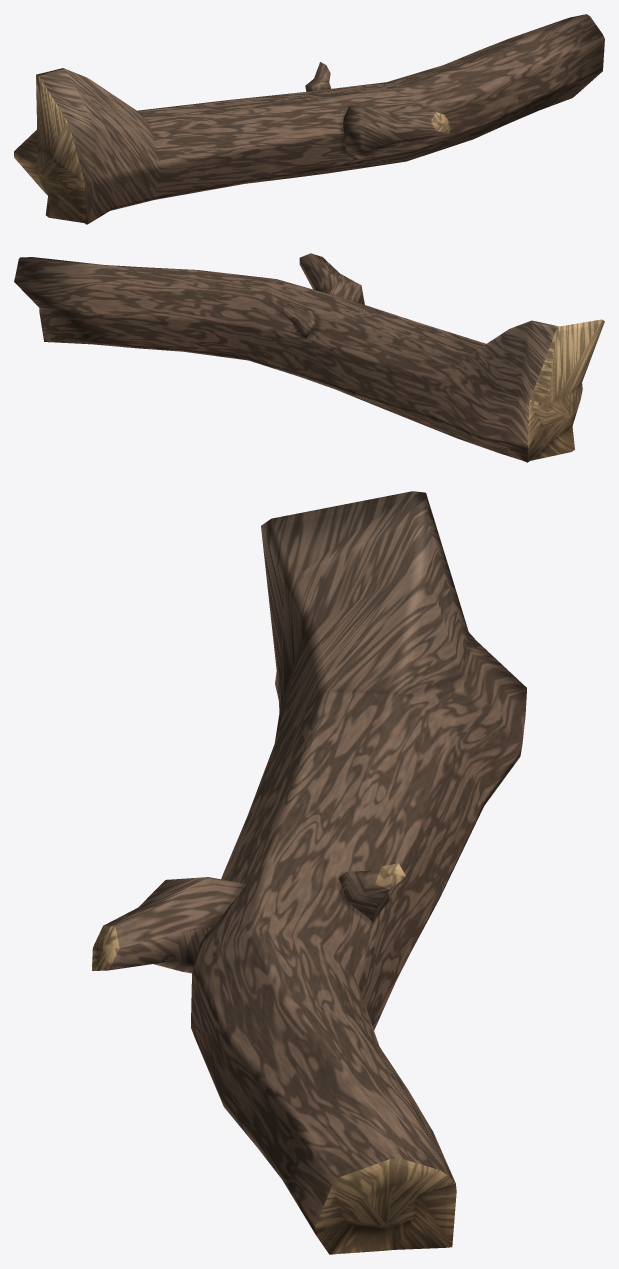
File: log_2.glb
3 renders of one model, top to bottom at view 1: azimuth 30°, elevation 25°; view 2: azimuth 150°, elevation 25°; view 3: azimuth 270°, elevation 25°, orthographic. The views are drawn at different scales.
Parts seen in each view (by area): view 1: log_2; view 2: log_2; view 3: log_2.
Part boxes in pixels (box(x1,y1,x2,y2)): log_2: box(14, 14, 604, 224); log_2: box(14, 253, 604, 462); log_2: box(92, 491, 526, 1254).
Bounding box in the file's own units: 4.4 × 1 × 1.5.
Materials: 2 (2 with a texture image).
